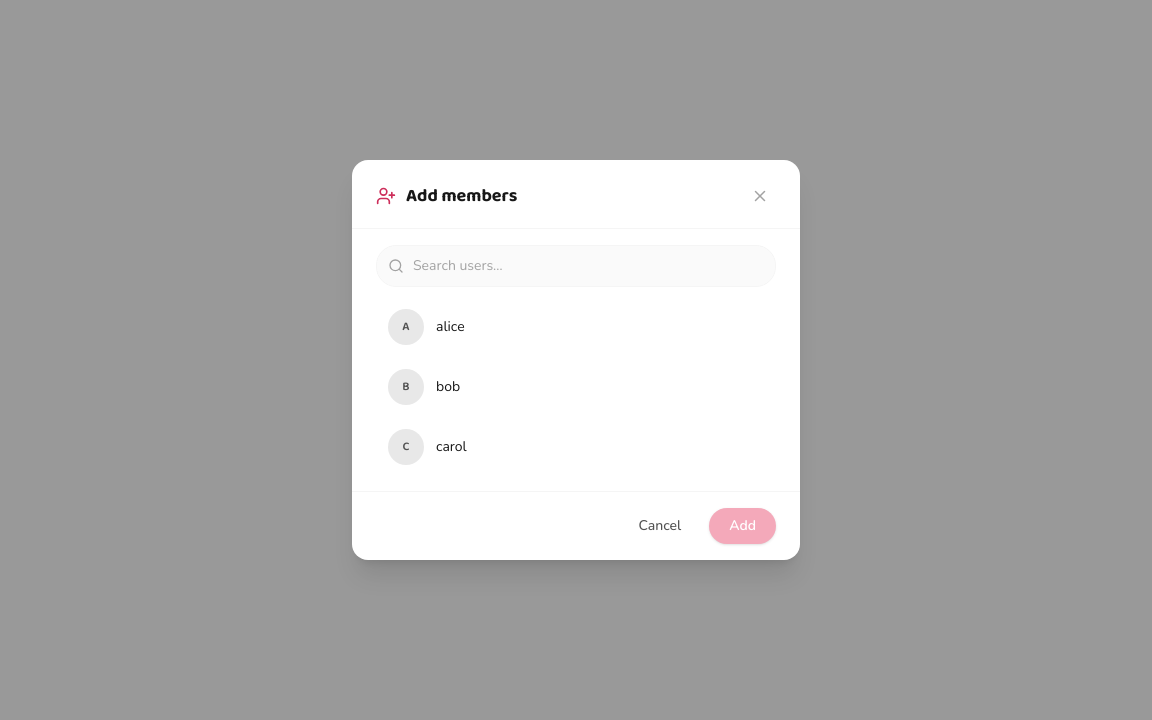
Test case: AddParticipantModal › shows generic error message when adding participants fails with non-403
The width and height of the screenshot is (1152, 720).
Click the text "alice": (450, 326) 436,317 -> 465,336
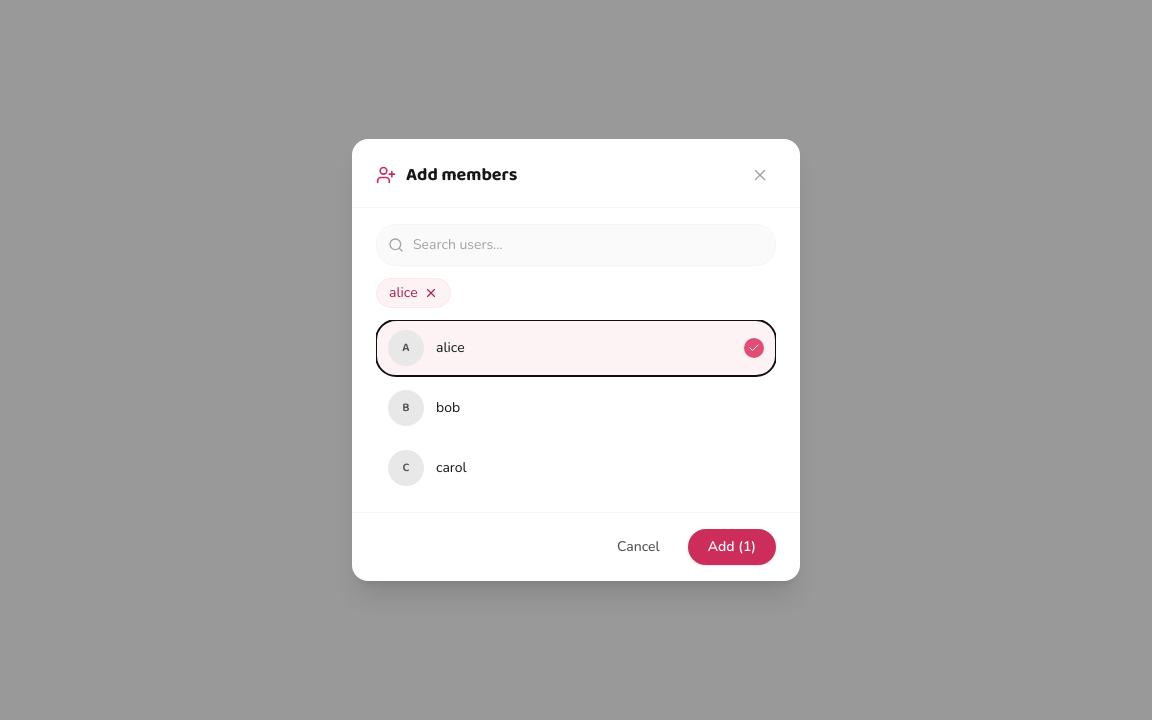
Click the button "Add (1)": (732, 547) 688,529 -> 776,565
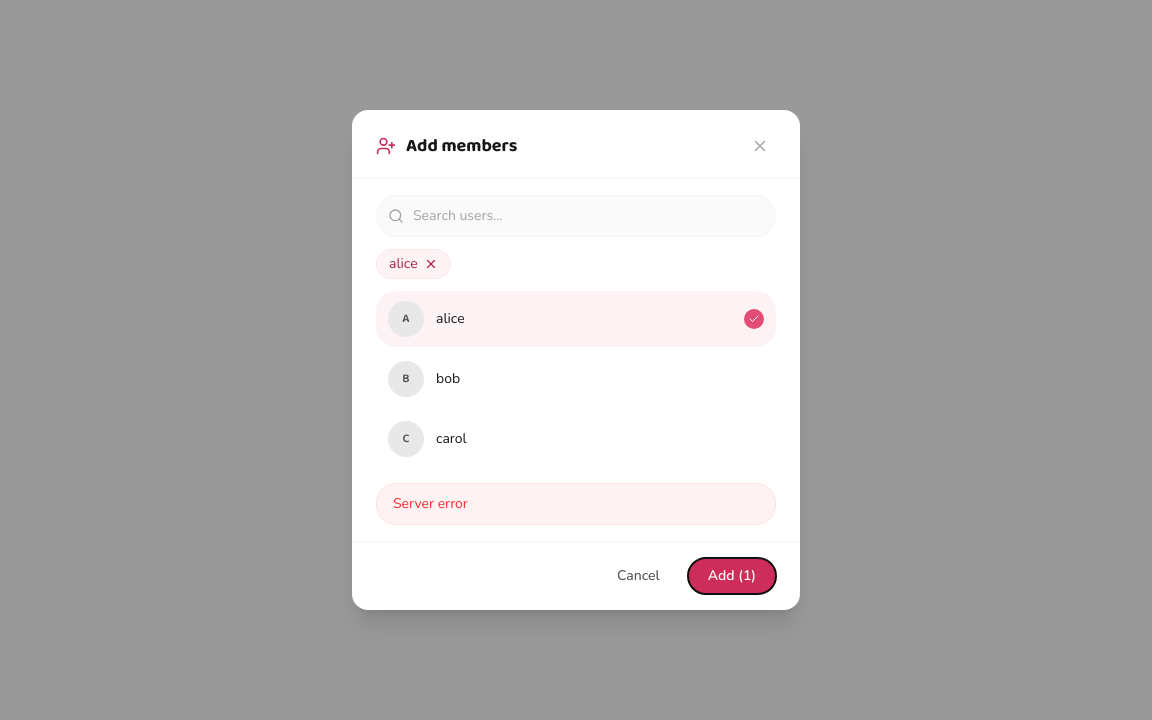
Result: the text "Server error" is shown at 376,483 -> 776,525
